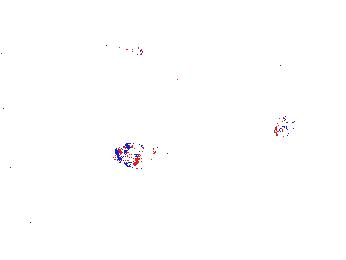X-ray fish: (111, 142, 168, 171)
red belly glassfish: (101, 39, 145, 58), (272, 116, 298, 138)
